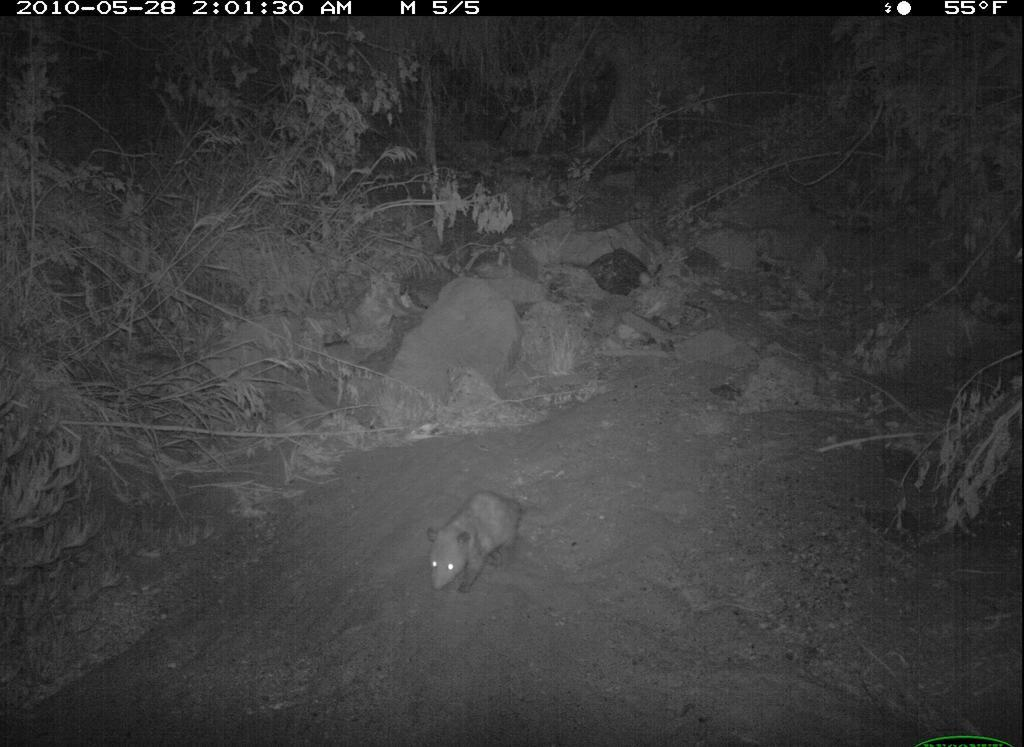opossum: (414, 483, 534, 609)
